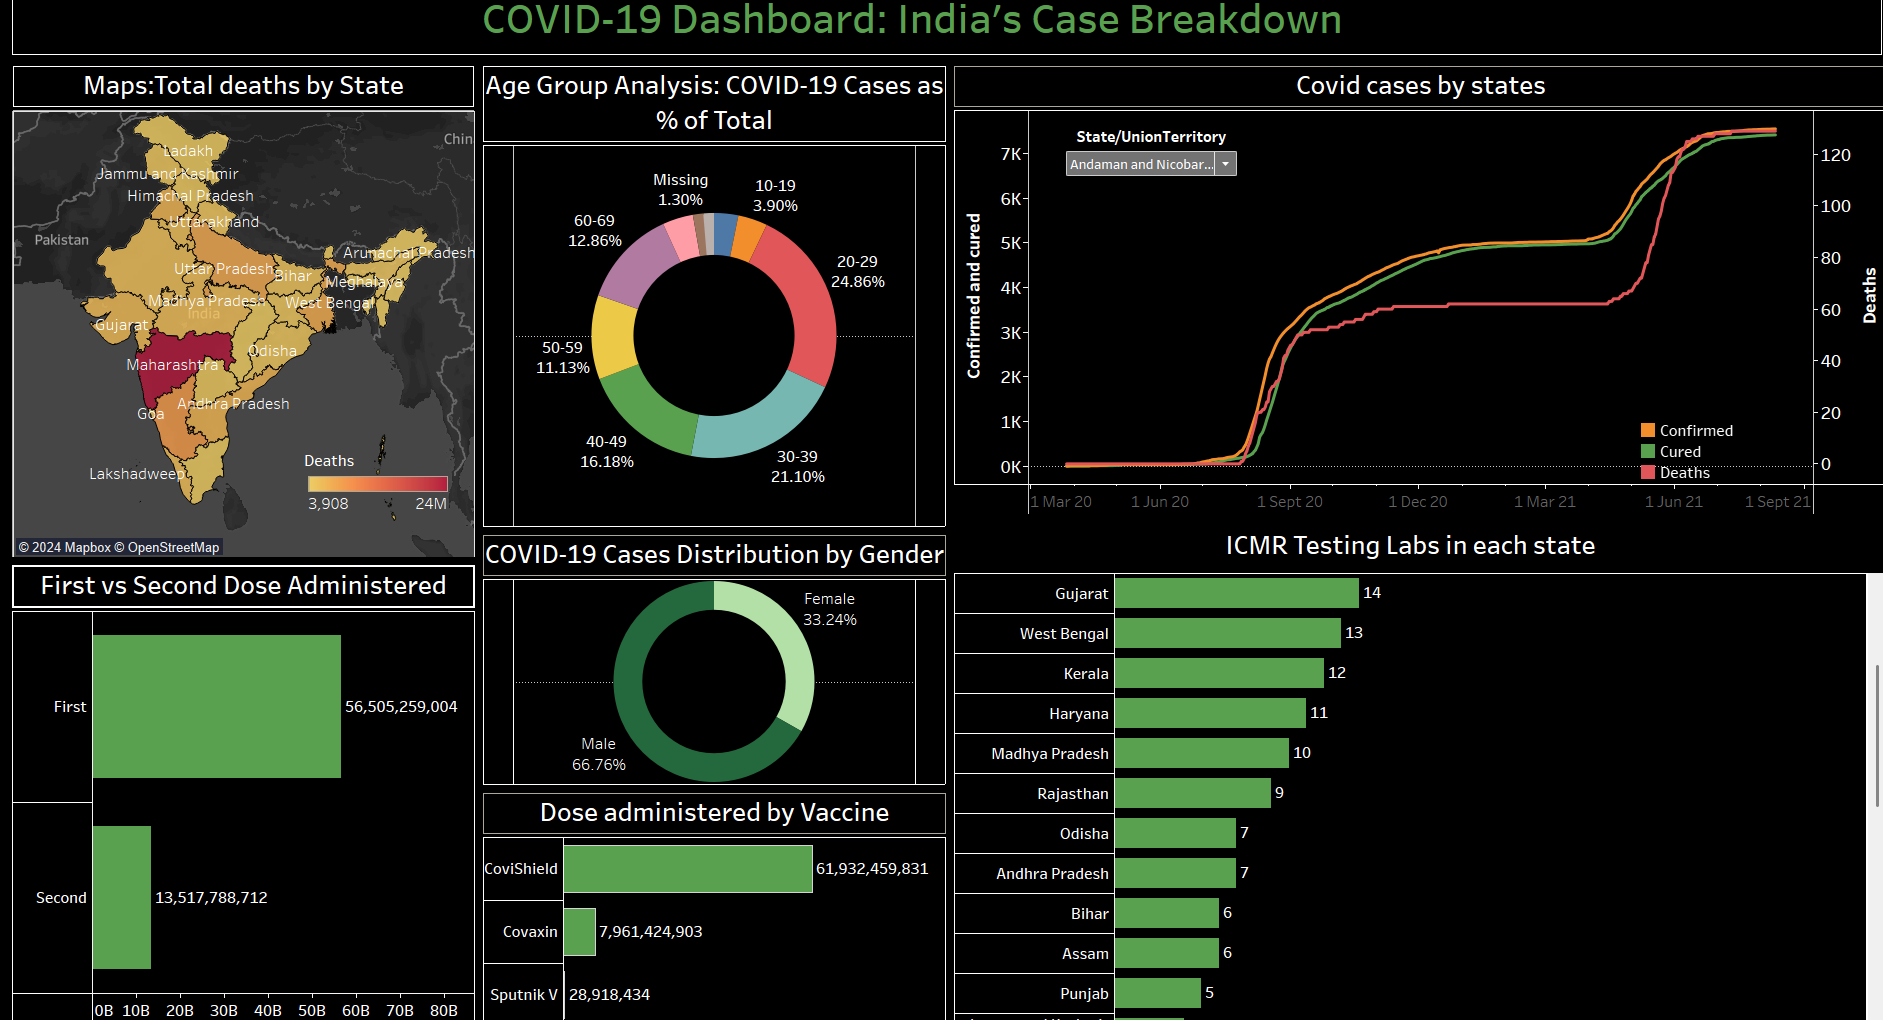

The page's visual inventory and layout, read from the dashboard file:
{"tool":"tableau","page":{"name":"Dashboard 1","canvas":[1900,1100],"ordinal":0},"visuals":[{"type":"worksheet","title":"title","mark":"Automatic","box":[8,8,1884,85]},{"type":"worksheet","title":"Maps:Total deaths by State","mark":"Automatic","box":[8,93,471,499.5]},{"type":"worksheet","title":"Age Group Analysis: COVID-19 Cases as % of Total","mark":"Pie","rows":["Calculation_663155058192928769","Calculation_663155058192928769"],"box":[479,93,471,469]},{"type":"worksheet","title":"Covid cases by states","mark":"Automatic","rows":["Deaths"],"cols":["Date"],"box":[950,93,942,457]},{"type":"filter","title":"Covid cases by states","param":"[federated.1lajmz319f1f5n1eps8re1cvgkh9].[none:State/UnionTerritory:nk]","box":[1062.9,157,177.3,61]},{"type":"legend","title":"Covid cases by states","param":"[federated.1lajmz319f1f5n1eps8re1cvgkh9].[:Measure Names]","box":[1638.2,451,147.8,63]},{"type":"legend","title":"Maps:Total deaths by State","param":"[federated.1lajmz319f1f5n1eps8re1cvgkh9].[sum:Deaths:qk]","box":[304,481,147.8,88]},{"type":"worksheet","title":"ICMR Testing Labs in each state","mark":"Bar","rows":["state"],"cols":["lab"],"box":[950,550,942,542]},{"type":"worksheet","title":"COVID-19 Cases Distribution by Gender","mark":"Pie","rows":["Calculation_663155058197127173","Calculation_663155058197127173"],"box":[479,562,471,258]},{"type":"worksheet","title":"First vs Second Dose Administered","mark":"Automatic","box":[8,592.5,471,499.5]},{"type":"worksheet","title":"Dose administered by Vaccine","mark":"Automatic","box":[479,820,471,272]}]}

Visuals, with their boxes in screenshot pixels (x1, y1, x2, y2):
"title" worksheet: (left=13, top=0, right=1864, bottom=52)
"Maps:Total deaths by State" worksheet: (left=13, top=52, right=476, bottom=543)
"Age Group Analysis: COVID-19 Cases as % of Total" worksheet (Pie marks): (left=476, top=52, right=939, bottom=513)
"Covid cases by states" worksheet: (left=939, top=52, right=1864, bottom=501)
"Covid cases by states" filter: (left=1050, top=115, right=1224, bottom=175)
"Covid cases by states" legend: (left=1615, top=404, right=1760, bottom=466)
"Maps:Total deaths by State" legend: (left=304, top=434, right=449, bottom=520)
"ICMR Testing Labs in each state" worksheet (Bar marks): (left=939, top=501, right=1864, bottom=1019)
"COVID-19 Cases Distribution by Gender" worksheet (Pie marks): (left=476, top=513, right=939, bottom=767)
"First vs Second Dose Administered" worksheet: (left=13, top=543, right=476, bottom=1019)
"Dose administered by Vaccine" worksheet: (left=476, top=767, right=939, bottom=1019)
